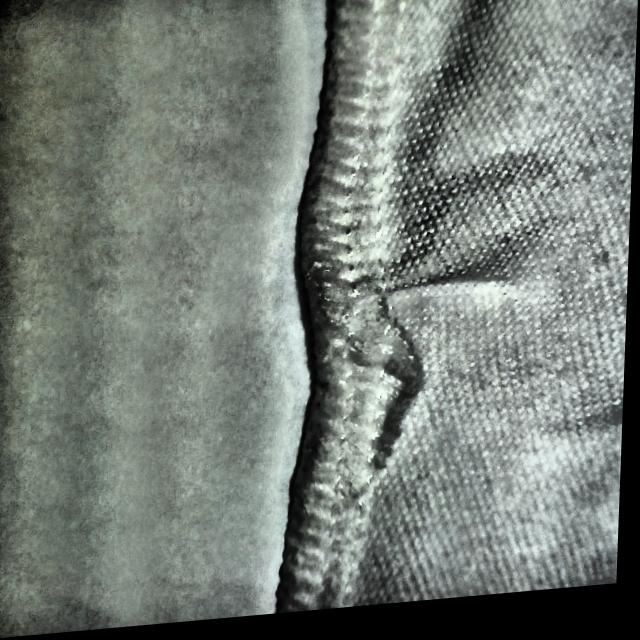seam: (306, 219, 523, 459)
